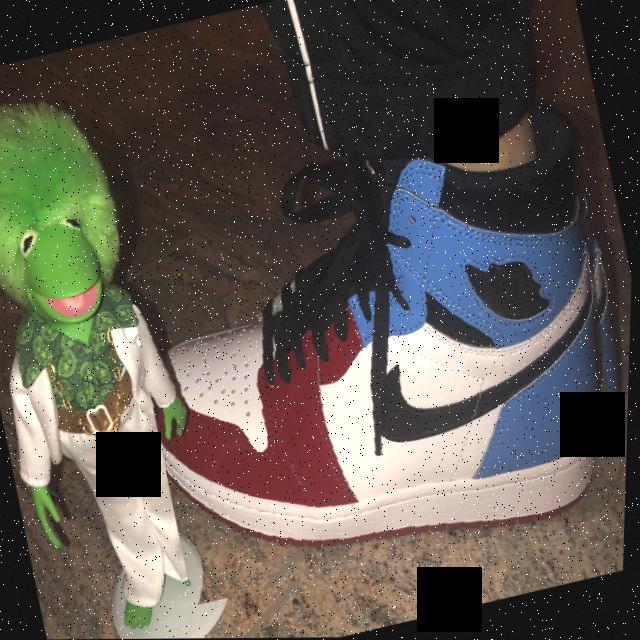shoe: (103, 94, 638, 606)
